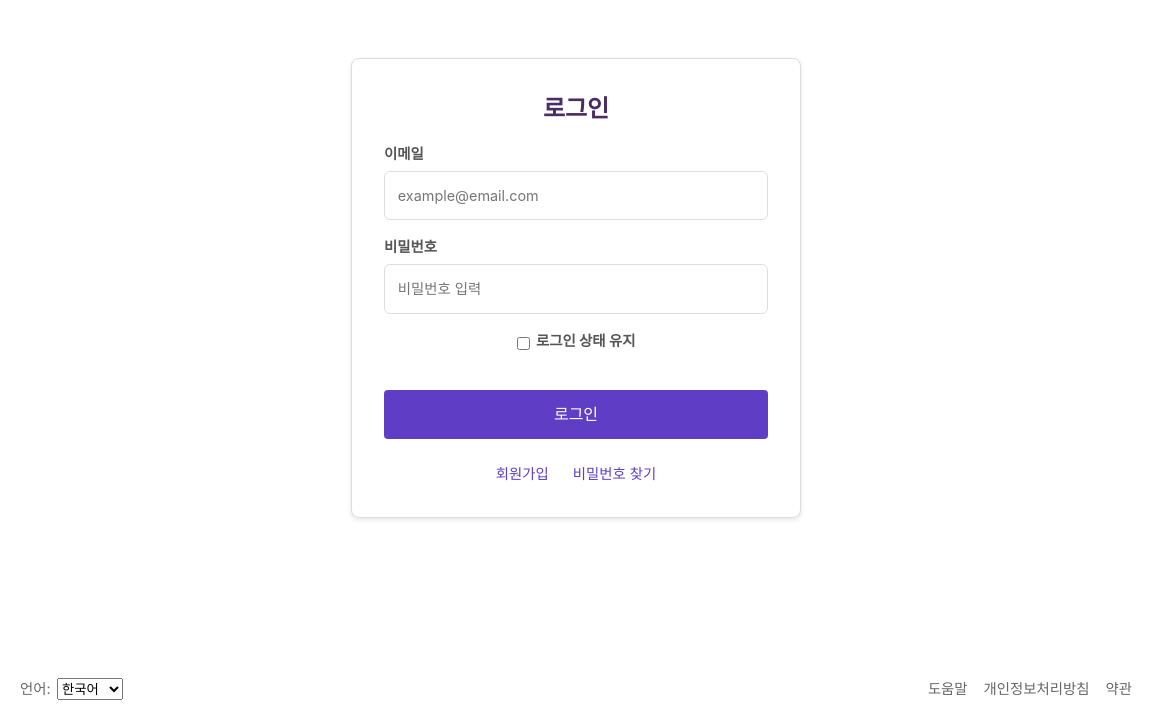
Test case: LoginPage › 폼 검증 메시지 표시
The width and height of the screenshot is (1152, 720).
Click the button "로그인" at (576, 414), box x1=384 y1=390 x2=768 y2=439
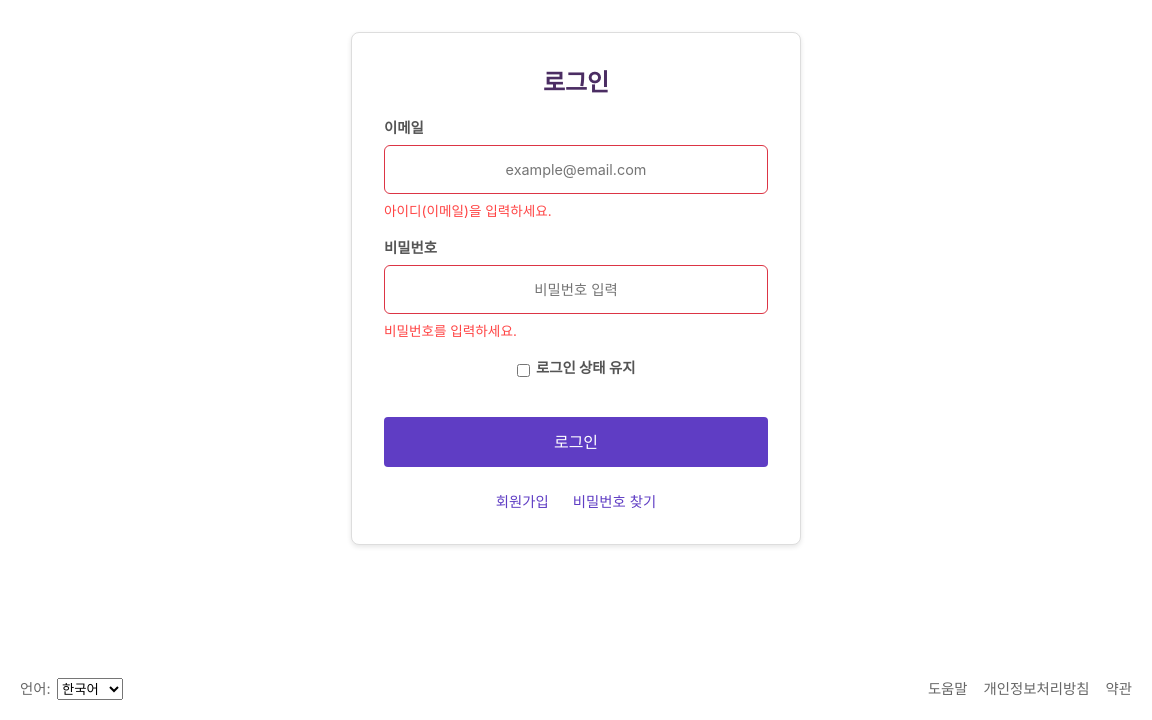
Expected: the text "아이디(이메일)을 입력하세요." is shown, x1=384 y1=203 x2=552 y2=219
Expected: the text "비밀번호를 입력하세요." is shown, x1=384 y1=322 x2=517 y2=338
